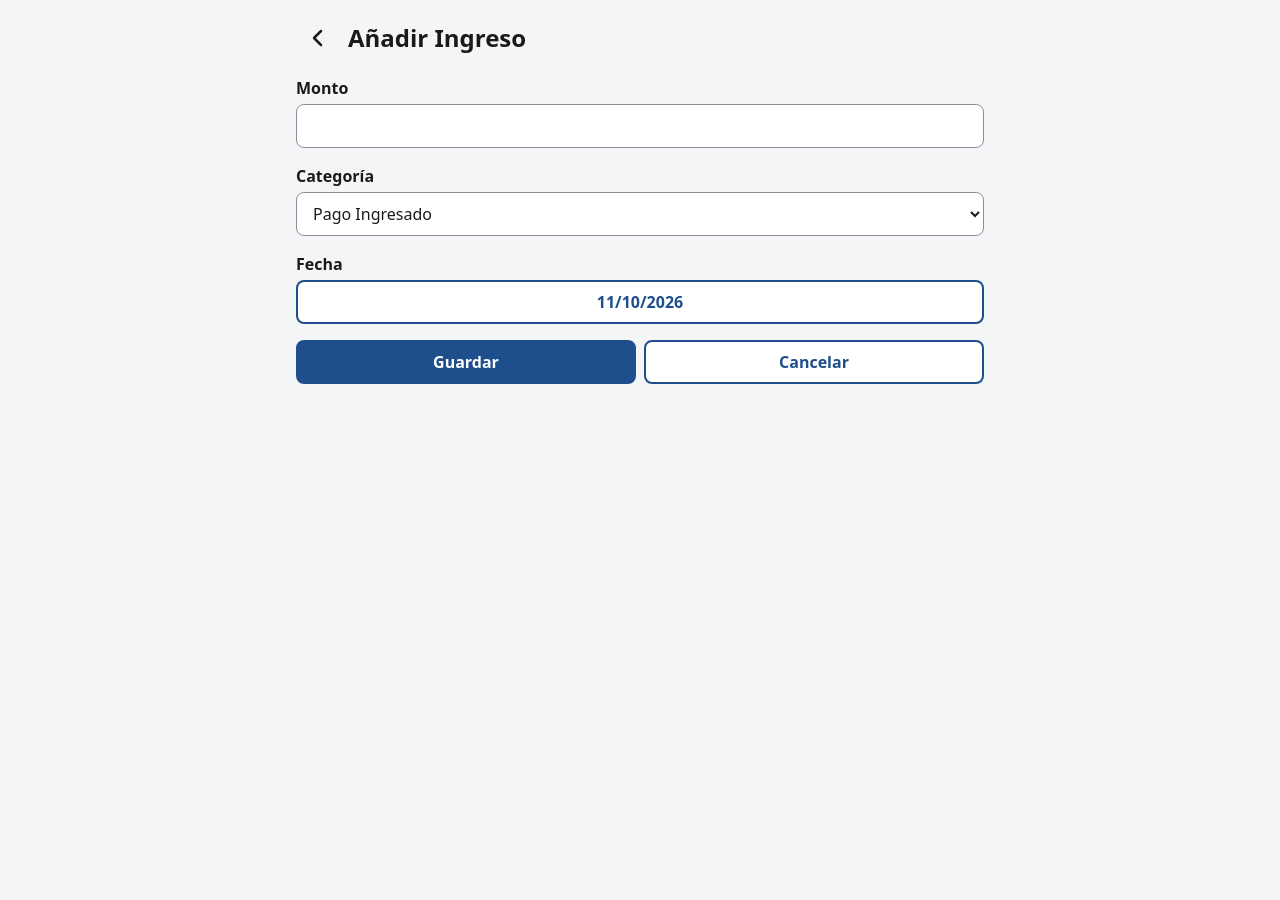
Test: FormularioMovimiento en modo alta › con 1.000.000.000.000,00 muestra "El monto máximo es 999.999.999.999,99." (AC-46)
In the field labelled "Monto": coordinates (640, 126) [296,104,984,148], type "1000000000000,00"
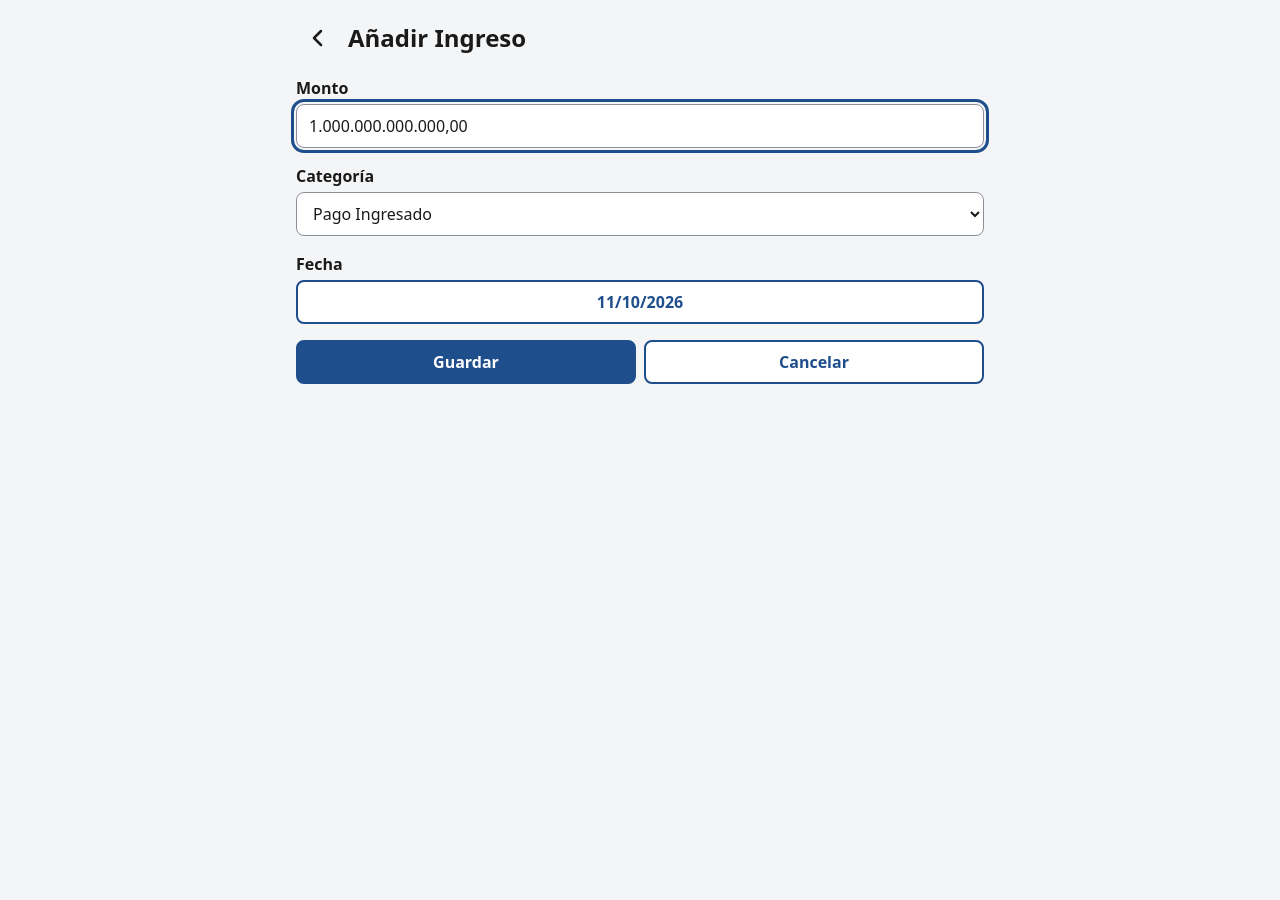
Click the button "Guardar": coordinates (466, 362) [296,340,636,384]
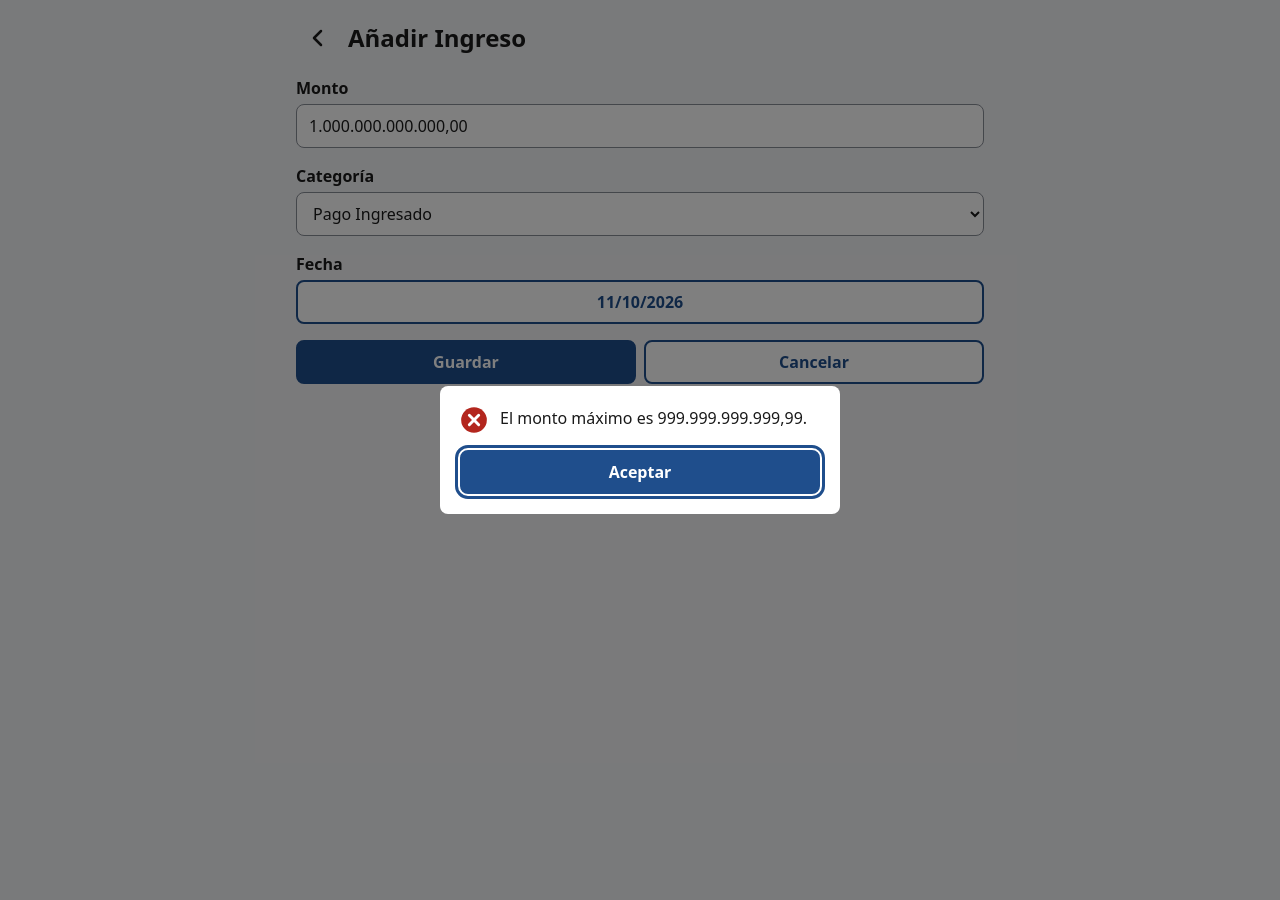
expect the text "El monto máximo es 999.999.999.999,99." is shown: met, box [500,406,807,430]
